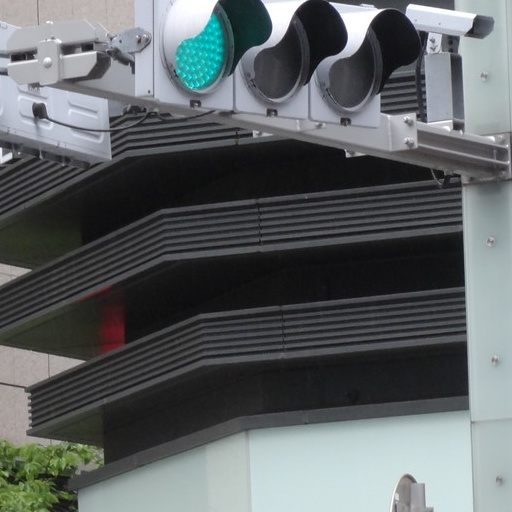Traffic_Signal_Blue: (161, 1, 410, 111)
